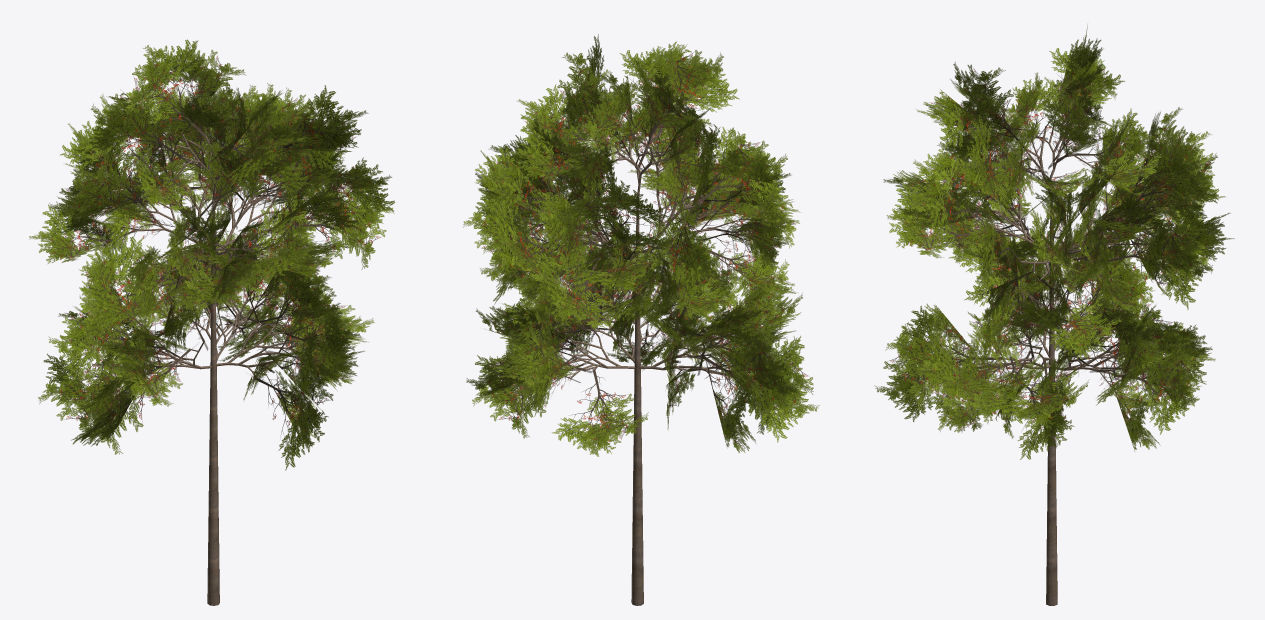
Rendered from ash_tree.glb.
The picture shows the model from 3 angles, left to right: view 1: azimuth 30°, elevation 25°; view 2: azimuth 150°, elevation 25°; view 3: azimuth 270°, elevation 25°; orthographic projection.
Visible parts, largest first — view 1: Object_7; view 2: Object_7; view 3: Object_7.
Part boxes in pixels (box(x1,y1,x2,y2)): Object_7: box(29, 39, 394, 605); Object_7: box(463, 34, 819, 605); Object_7: box(874, 25, 1234, 605).
Size of the model in its own units: 8.52 by 14.16 by 8.55.
2 materials, 2 textured.
